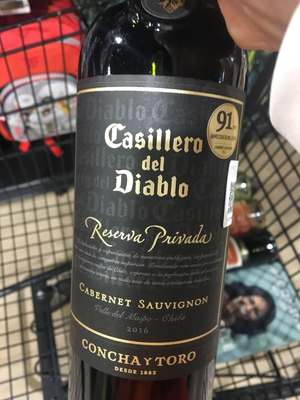casillero del diablo reserva privada cabernet sauvignon: (61, 14, 251, 400)
